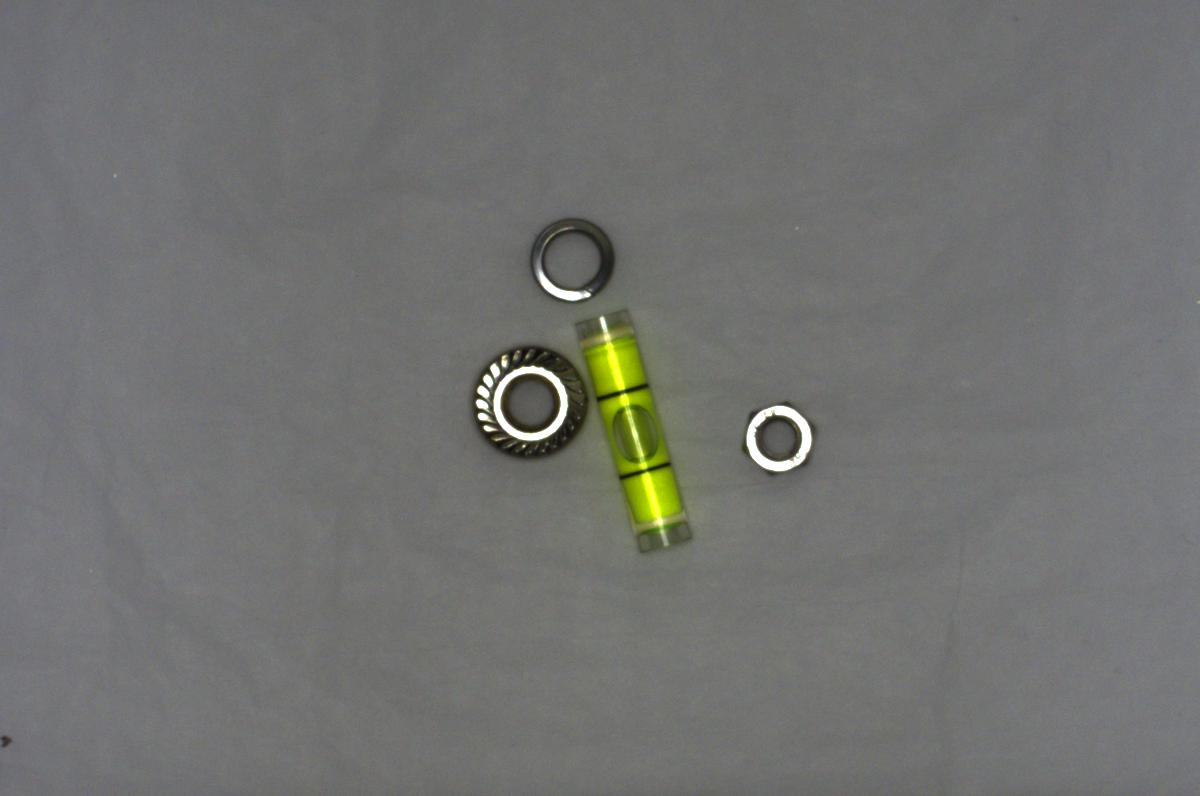Flange nut: (458, 335, 592, 460)
Hexagon nut: (727, 396, 818, 478)
Horizontal bubble: (566, 305, 692, 561)
Spring washer: (517, 206, 615, 306)
